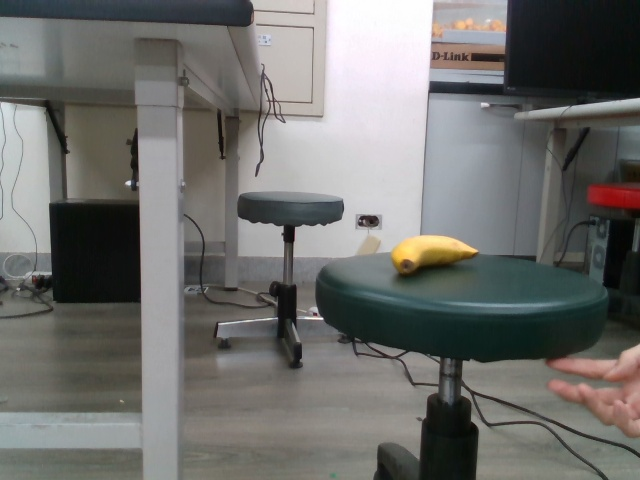banana: (388, 232, 481, 271)
